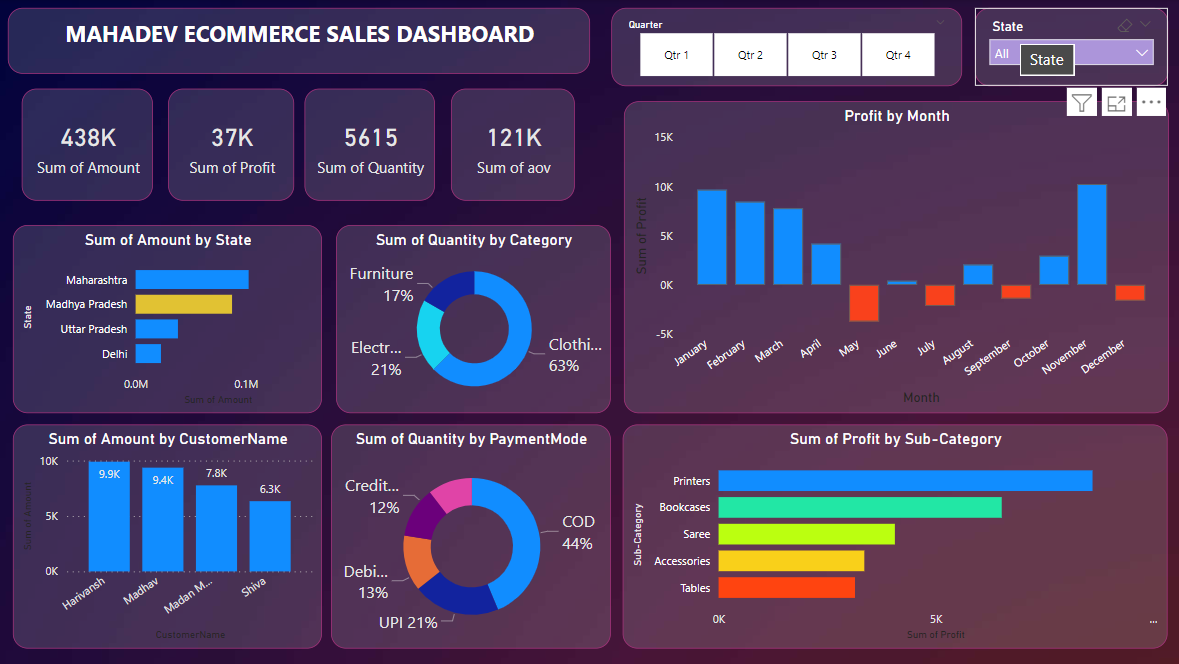

What the dashboard file says about the page in this screenshot:
{"tool":"powerbi","page":{"name":"Page 1","canvas":[1280,720],"ordinal":0},"visuals":[{"type":"textbox","box":[9.8,9.8,630,71.1],"z":0},{"type":"columnChart","title":"Profit by Month","fields":{"Y":["Details.Profit"],"Category":["Orders.Order Date.Variation.Date Hierarchy.Month"]},"box":[676,110.1,589.5,337.3],"z":1000},{"type":"barChart","fields":{"Category":["Details.Sub-Category"],"Y":["Details.Profit"]},"box":[674.6,459.9,589.5,242.5],"z":2000},{"type":"donutChart","fields":{"Category":["Details.Category"],"Y":["Details.Quantity"]},"box":[365.2,243.9,296.9,203.5],"z":3000},{"type":"donutChart","fields":{"Y":["Details.Quantity"],"Category":["Details.PaymentMode"]},"box":[359.6,459.9,302.4,242.5],"z":4000},{"type":"card","fields":{"Values":["Details.Amount"]},"box":[25.1,97.6,142.2,121.3],"z":5000},{"type":"card","fields":{"Values":["Details.Profit"]},"box":[182.6,97.6,136.6,121.3],"z":6000},{"type":"card","fields":{"Values":["Details.Quantity"]},"box":[330.3,97.6,140.8,121.3],"z":7000},{"type":"card","fields":{"Values":["Details.aov"]},"box":[489.2,97.6,133.8,121.3],"z":8000},{"type":"barChart","fields":{"Category":["Orders.State"],"Y":["Details.Amount"]},"box":[15.3,243.9,334.5,203.5],"z":9000},{"type":"columnChart","fields":{"Category":["Orders.CustomerName"],"Y":["Details.Amount"]},"box":[15.3,459.9,334.5,242.5],"z":10000},{"type":"slicer","fields":{"Values":["Orders.Order Date.Variation.Date Hierarchy.Quarter"]},"box":[662,9.8,379.1,85],"z":11000},{"type":"slicer","fields":{"Values":["Orders.State"]},"box":[1055,9.8,209.1,85],"z":12000}]}

Visuals, with their boxes in screenshot pixels (x1, y1, x2, y2), scaled from the page's 1280x720 canvas onto the 1179x664 screenshot:
textbox: <region>9, 9, 589, 75</region>
"Profit by Month" columnChart: <region>623, 102, 1166, 413</region>
barChart - Details.Sub-Category x Details.Profit: <region>621, 424, 1164, 648</region>
donutChart - Details.Category x Details.Quantity: <region>336, 225, 610, 413</region>
donutChart - Details.Quantity x Details.PaymentMode: <region>331, 424, 610, 648</region>
card - Details.Amount: <region>23, 90, 154, 202</region>
card - Details.Profit: <region>168, 90, 294, 202</region>
card - Details.Quantity: <region>304, 90, 434, 202</region>
card - Details.aov: <region>451, 90, 574, 202</region>
barChart - Orders.State x Details.Amount: <region>14, 225, 322, 413</region>
columnChart - Orders.CustomerName x Details.Amount: <region>14, 424, 322, 648</region>
slicer - Orders.Order Date.Variation.Date Hierarchy.Quarter: <region>610, 9, 959, 87</region>
slicer - Orders.State: <region>972, 9, 1164, 87</region>
